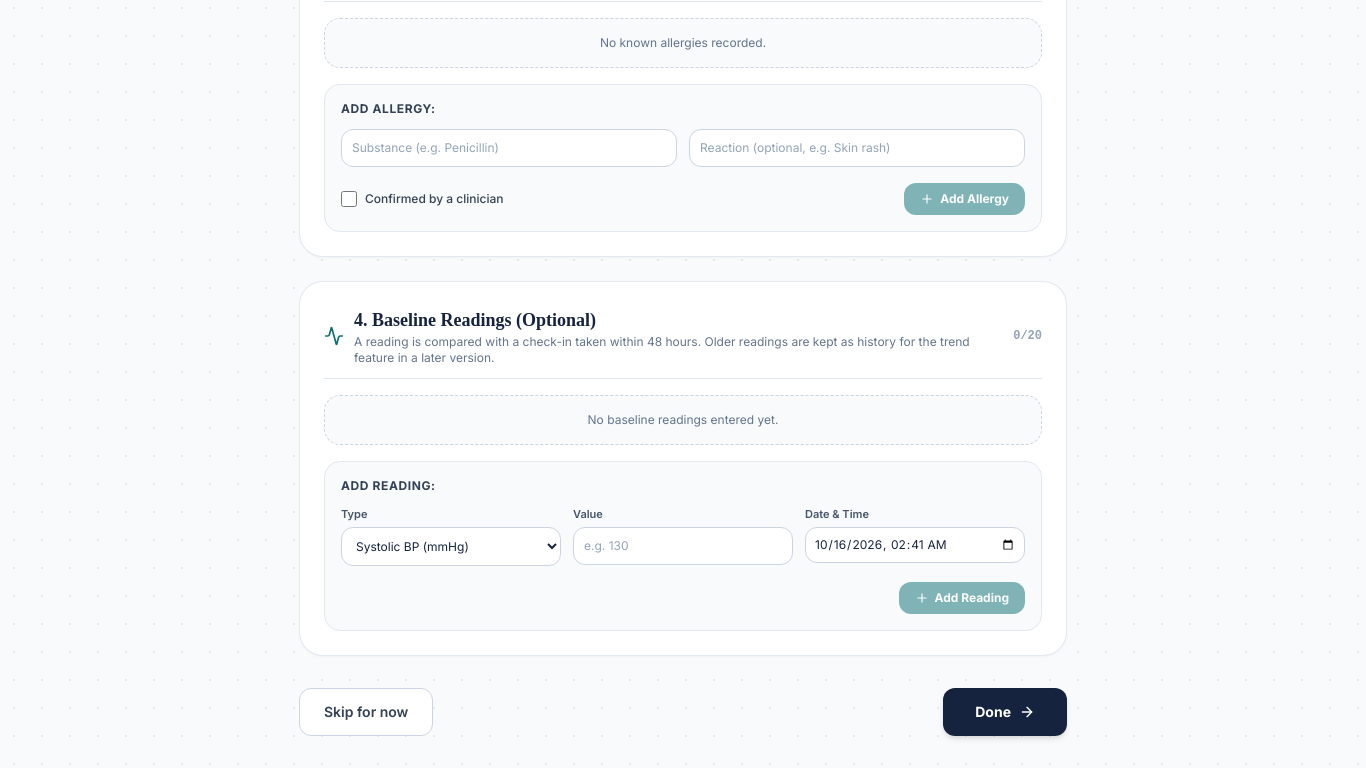
Scenario: STAGE 10C: Hypertension Parity & Condition Awareness › HealthRecordScreen Baseline Readings › defaults observation type selector to systolic BP and shows BP placeholder for hypertension-only
(page scrolled)
Check: the number field with placeholder "e.g. 130" is shown, box [573,526,793,564]
// Changing to diastolic updates placeholder
Select "Diastolic BP (mmHg)" in the dropdown showing "Systolic BP (mmHg)" at (451, 546), box [341,526,561,566]
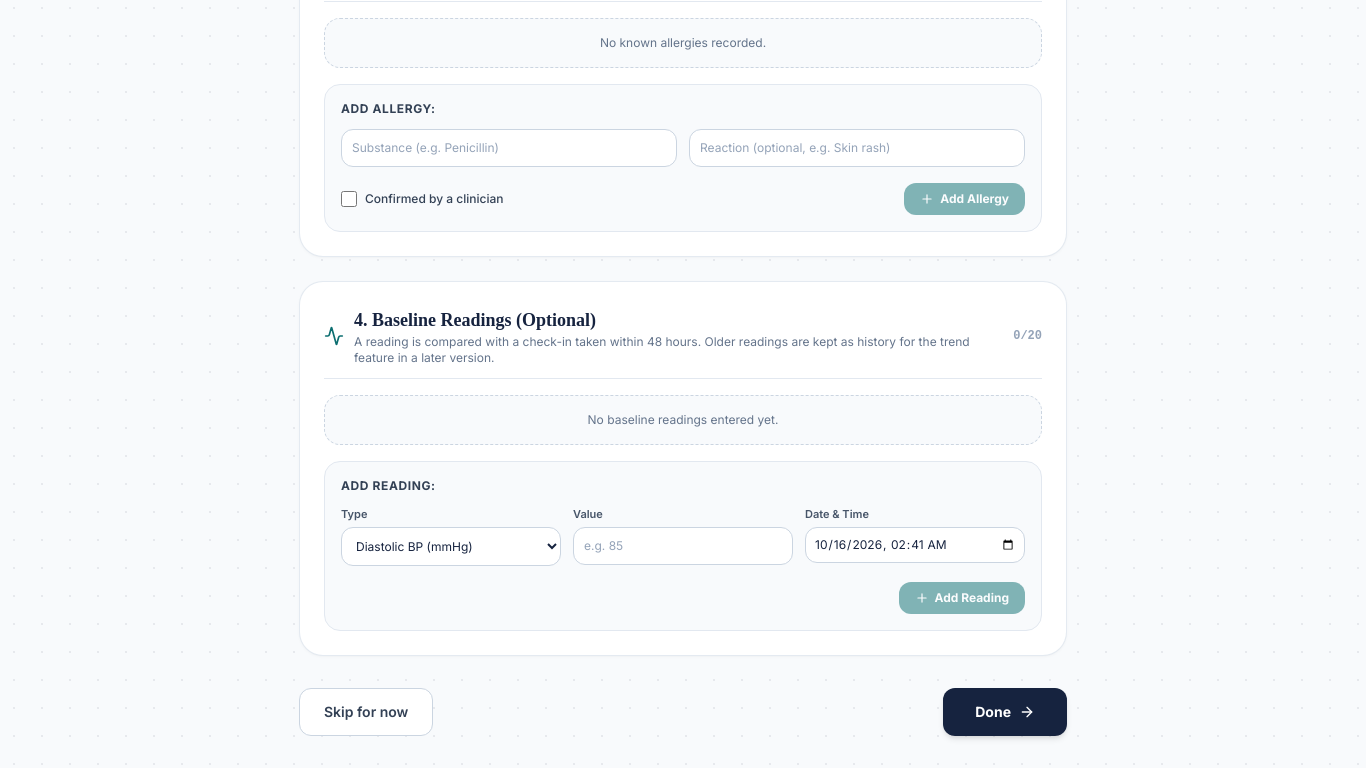
Check: the number field with placeholder "e.g. 85" is shown, box [573,526,793,564]
// Glucose is still available in the selector
Select "Blood Glucose (mg/dL)" in the dropdown showing "Systolic BP (mmHg)" at (451, 546), box [341,526,561,566]
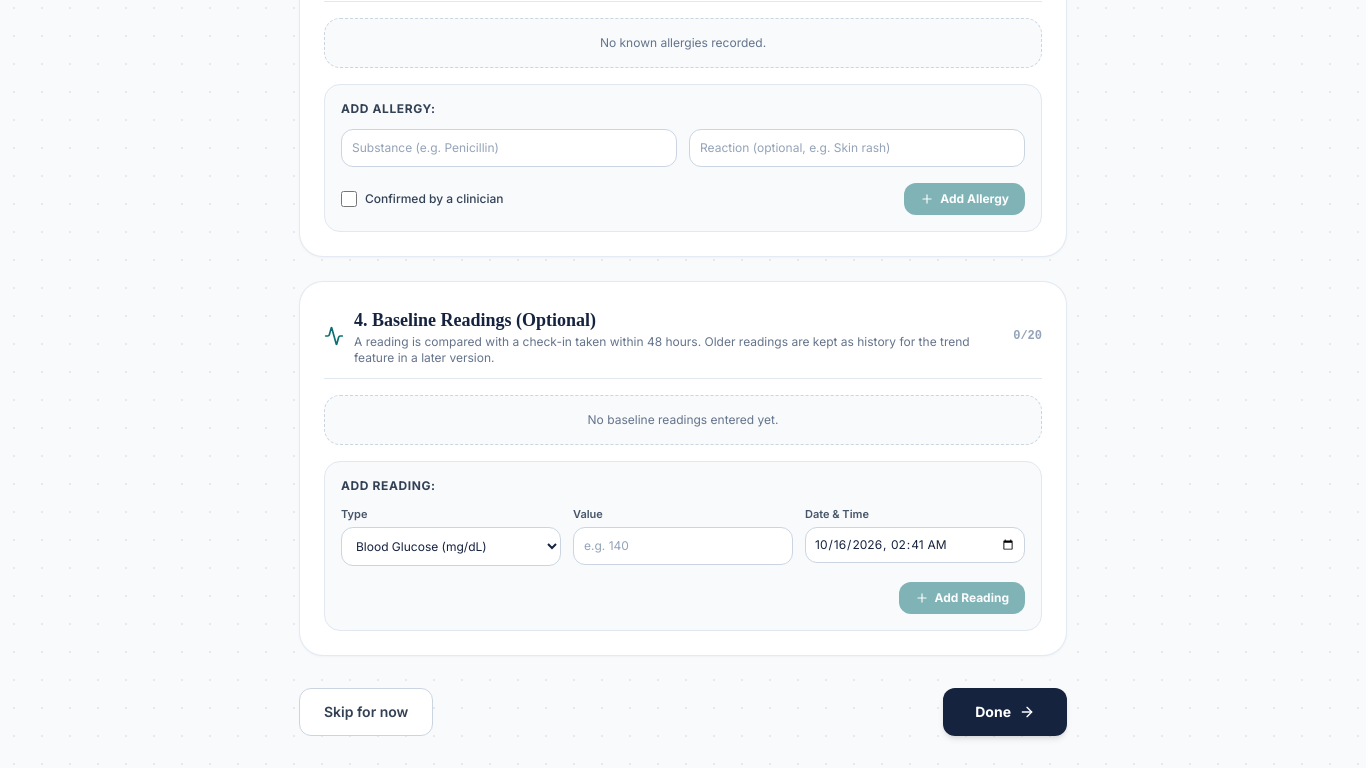
Check: the number field with placeholder "e.g. 140" is shown, box [573,526,793,564]
